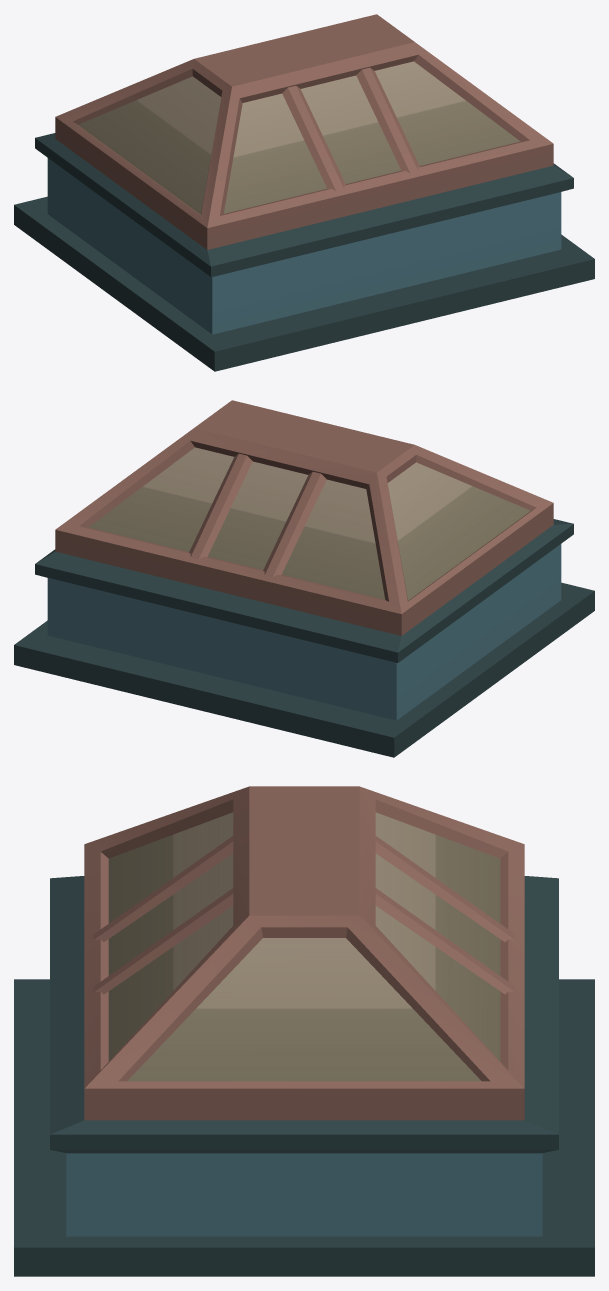
The model's file is RoofLights_4_C.fbx.
3 views of the same model, one above another, from view 1: azimuth 30°, elevation 25°; view 2: azimuth 150°, elevation 25°; view 3: azimuth 270°, elevation 25° (orthographic). The views are drawn at different scales.
Parts seen in each view (by area): view 1: RoofLights_4_C; view 2: RoofLights_4_C; view 3: RoofLights_4_C.
Part boxes in pixels (<box>): RoofLights_4_C: <box>14,14,594,371</box>; RoofLights_4_C: <box>14,400,594,757</box>; RoofLights_4_C: <box>14,786,594,1276</box>.
Bounding box in the file's own units: 216 × 109 × 198.
